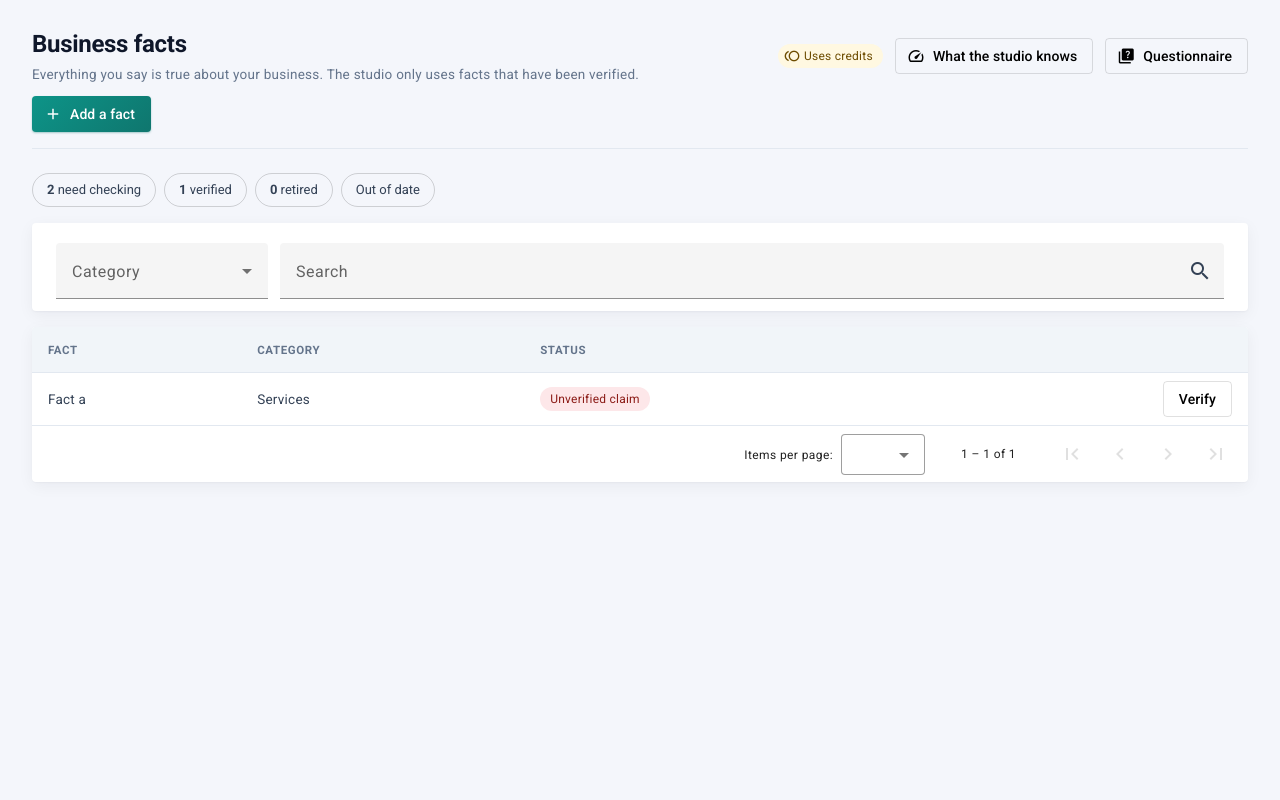
Test: StudioFactsComponent › knowledge › marks an AI suggestion as an unverified claim
The image size is (1280, 800).
Click the row with class "fact-row" at (640, 399), box [32, 373, 1248, 425]
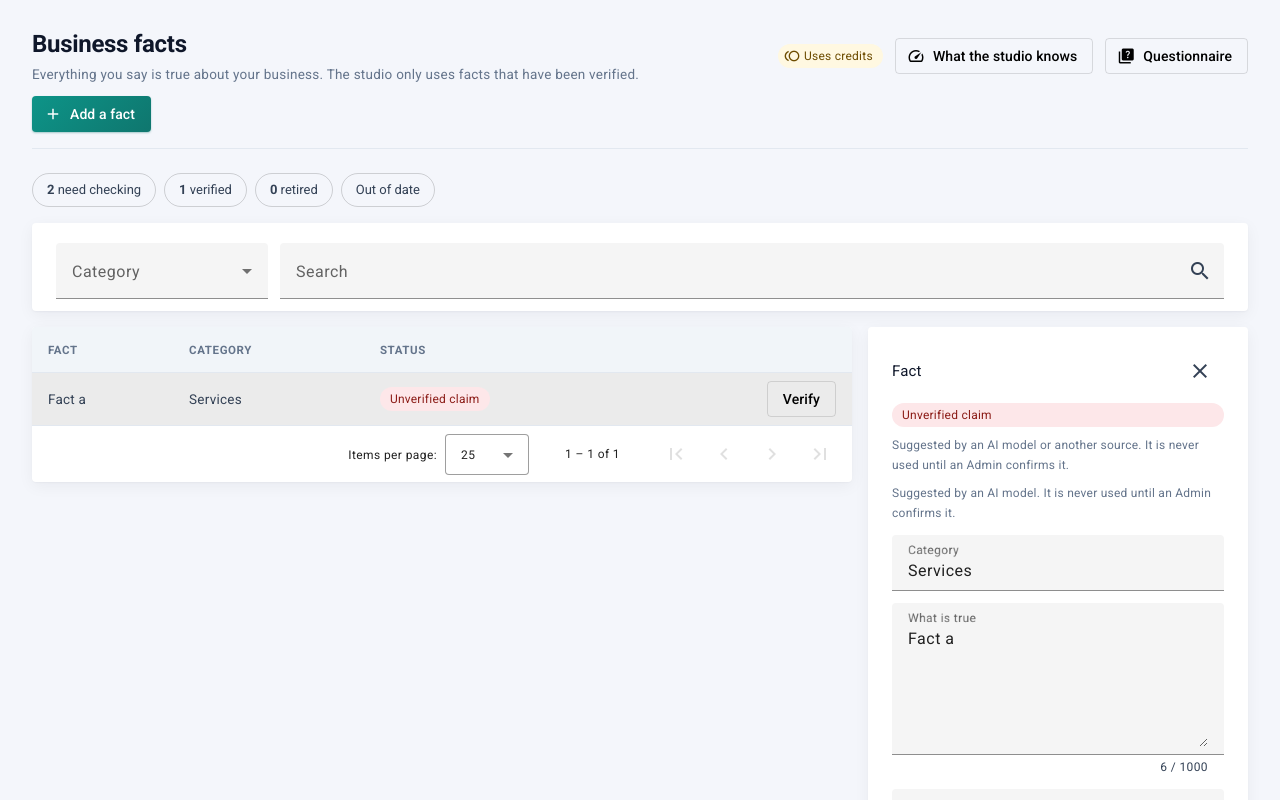
Check: the text with test id "source" shows "Suggested by an AI model", box [892, 486, 1211, 520]
Check: the text with test id "classification-hint" shows "never used until an Admin confirms", box [892, 438, 1199, 472]
